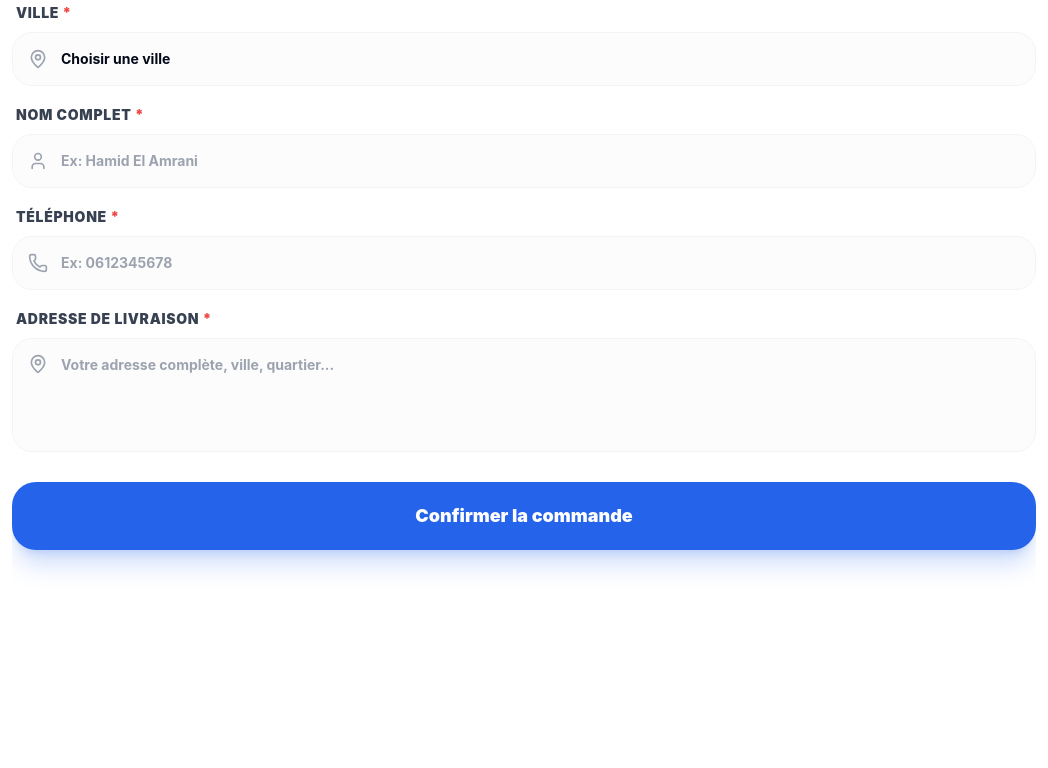
Test: CheckoutForm › form validation › should validate name minimum length
Type "J" into the field labelled "Nom Complet *" at point(524, 161), box [12,134,1036,188]
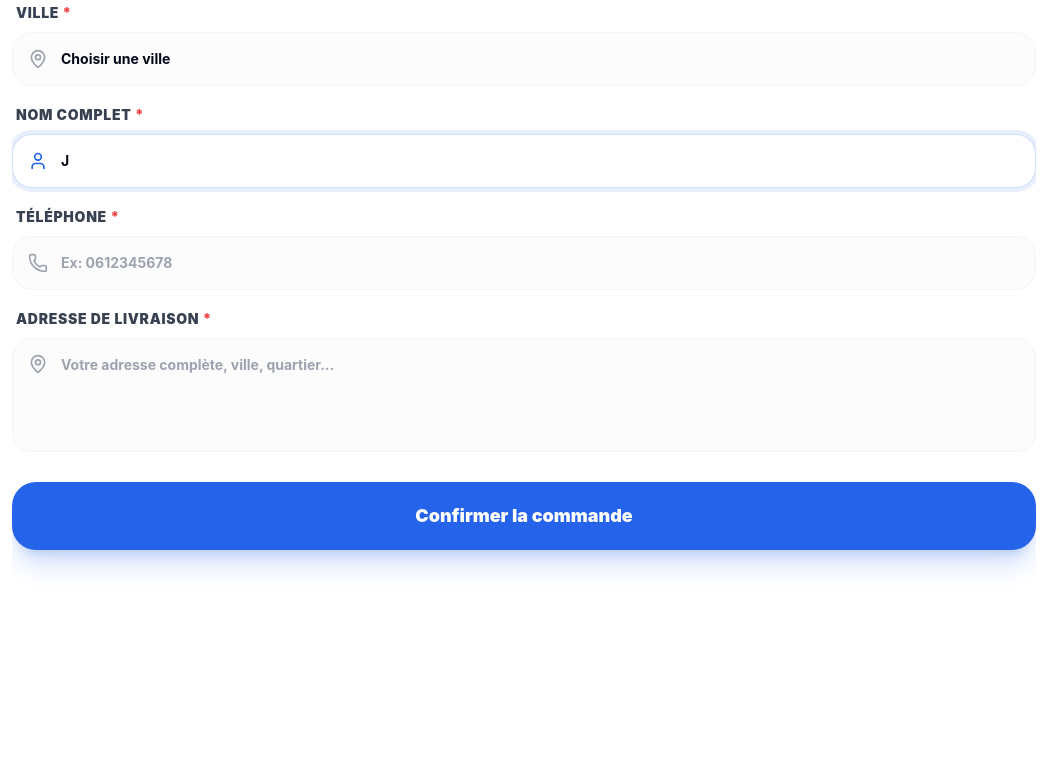
Click the button "Confirmer la commande" at point(524, 516), box [12,482,1036,550]
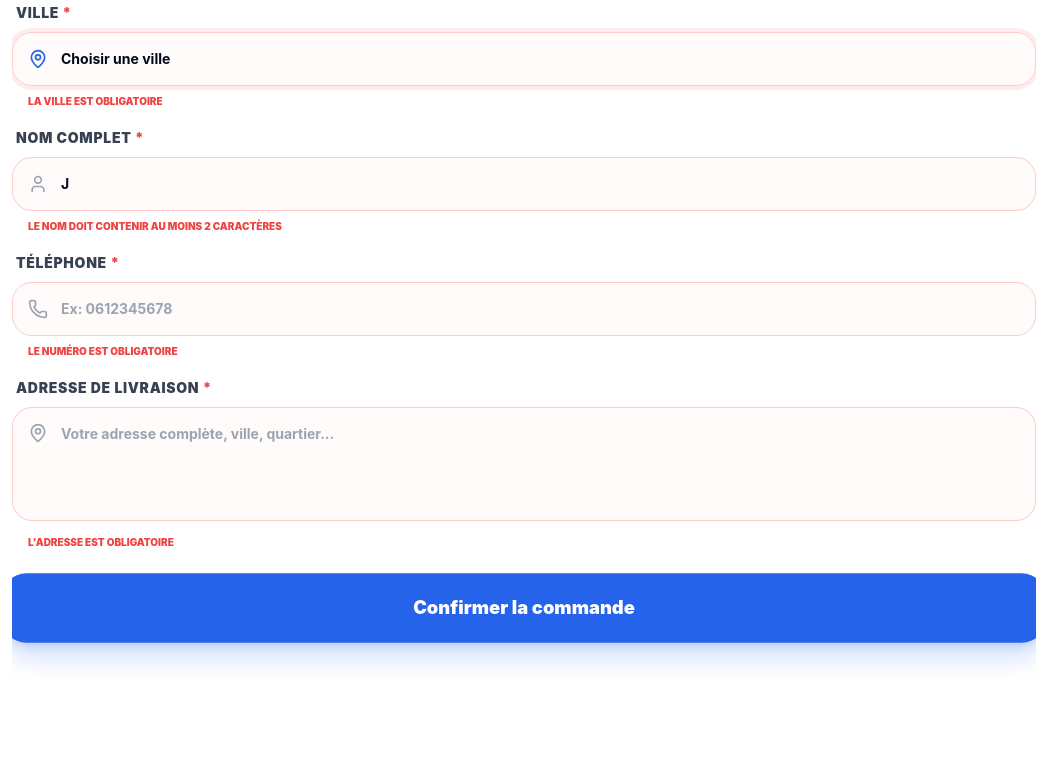
expect the text "Le nom doit contenir au moins 2 caractères" is shown: met, box [28,220,282,232]
